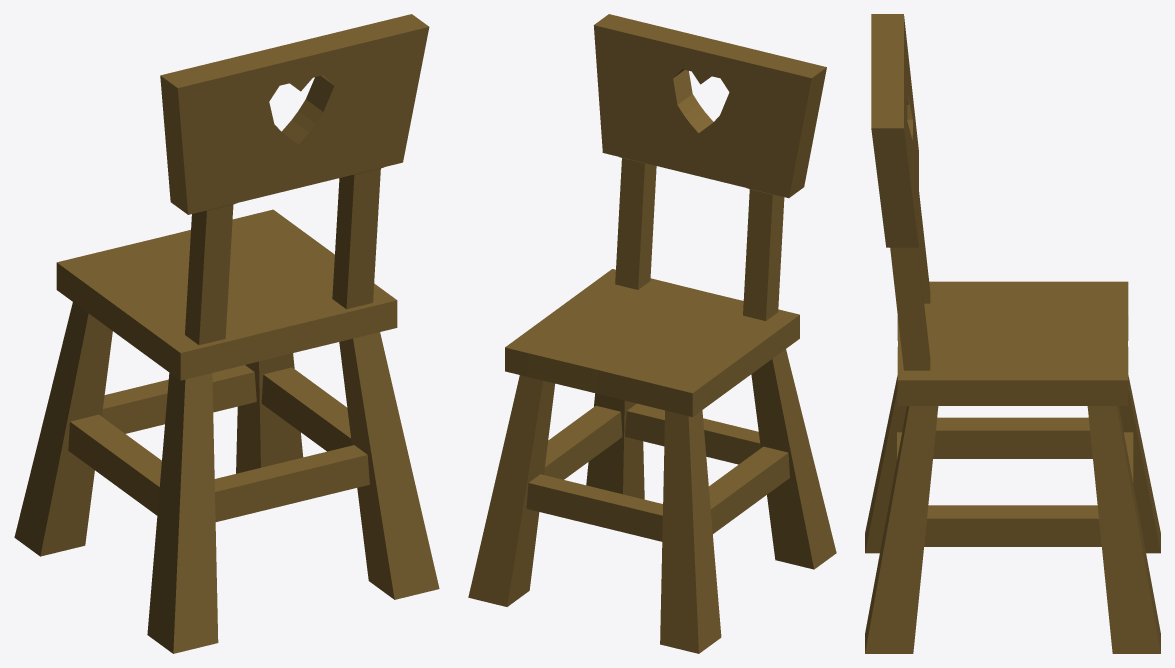
Rendered from chair_low_poly.glb.
The picture shows the model from 3 angles, left to right: view 1: azimuth 30°, elevation 25°; view 2: azimuth 150°, elevation 25°; view 3: azimuth 270°, elevation 25°; orthographic projection. The views are drawn at different scales.
Parts seen in each view (by area): view 1: Cube.003_2; view 2: Cube.003_2; view 3: Cube.003_2.
Boxes of the visible parts, x1=… form: Cube.003_2: x1=14, y1=14, x2=439, y2=653; Cube.003_2: x1=468, y1=14, x2=836, y2=653; Cube.003_2: x1=865, y1=14, x2=1160, y2=653.
Bounding box in the file's own units: 1.92 × 3.87 × 1.99.
